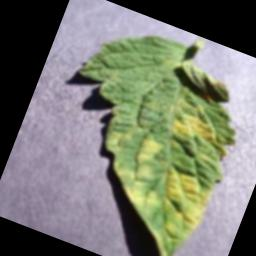Leaf_Mold: (69, 121, 224, 256), (166, 96, 226, 148)
